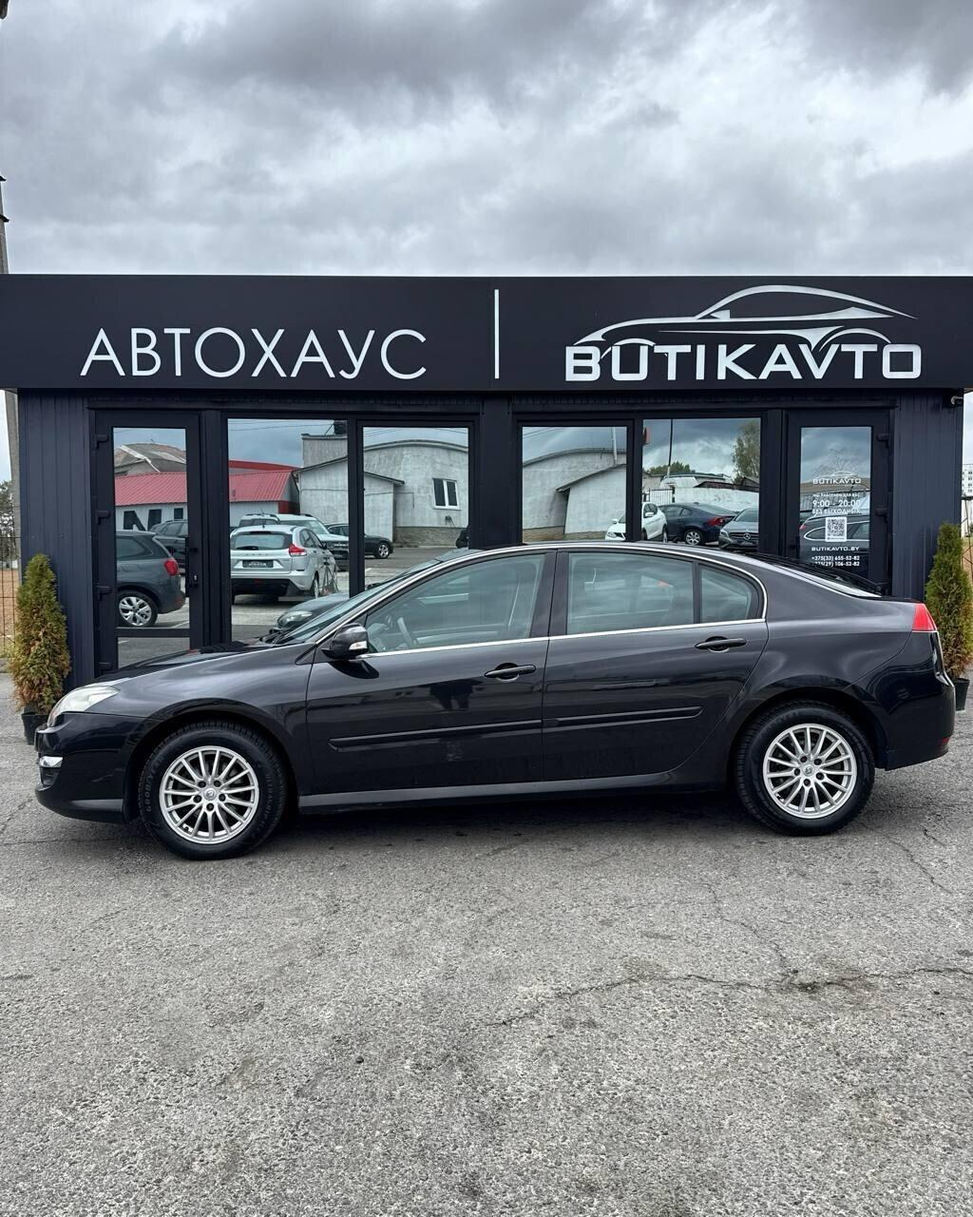Laguna_2010-2015: (27, 531, 963, 883)
